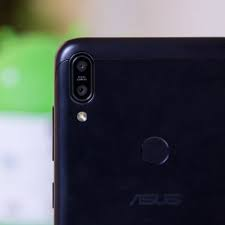asus: (51, 34, 223, 225)
